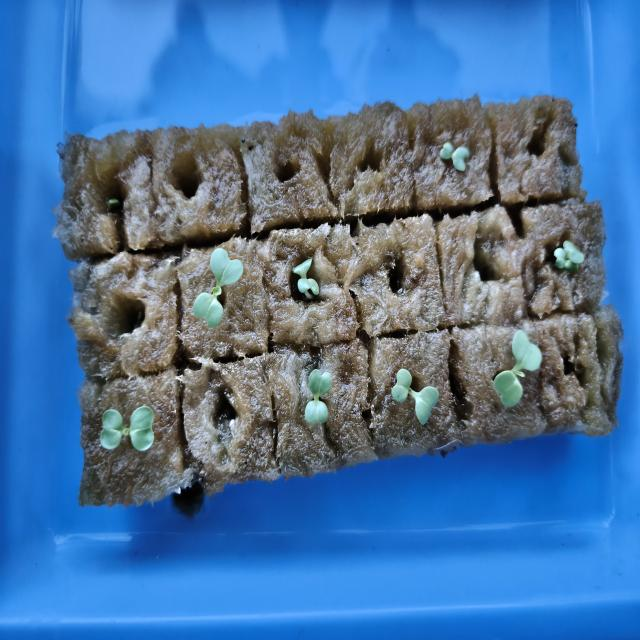daun-pakcoy: (210, 248, 243, 295), (512, 330, 542, 377), (125, 405, 154, 451), (193, 287, 223, 327), (493, 370, 523, 407), (414, 386, 442, 425), (300, 362, 331, 396), (100, 409, 124, 449), (554, 240, 584, 272), (392, 368, 412, 402), (304, 400, 328, 424), (297, 278, 319, 299), (451, 146, 469, 171), (292, 258, 314, 278), (554, 248, 570, 269), (440, 141, 454, 160)
